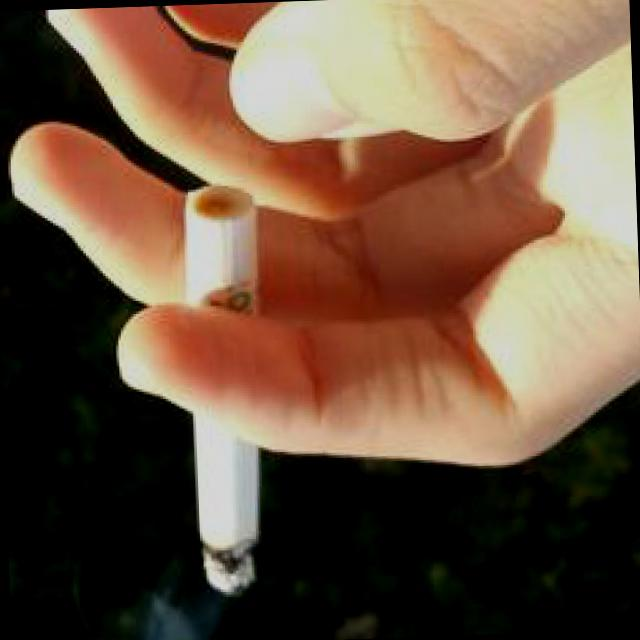smoke: (138, 174, 300, 610)
